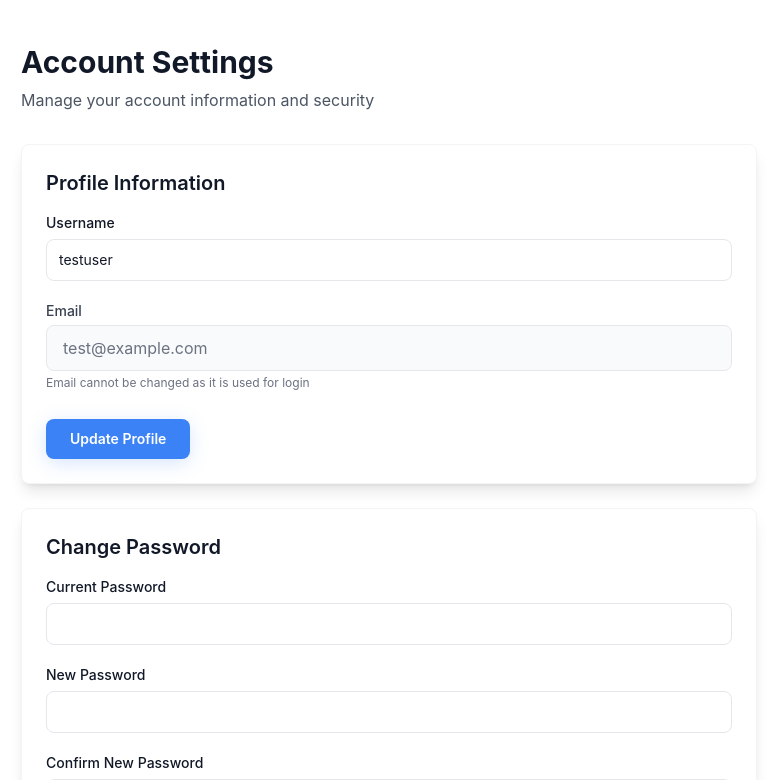
Test: ManageAccountPage › changes password successfully
Type "oldpassword123" into the password field labelled "Current Password" at [389, 624], box [46,603,732,645]
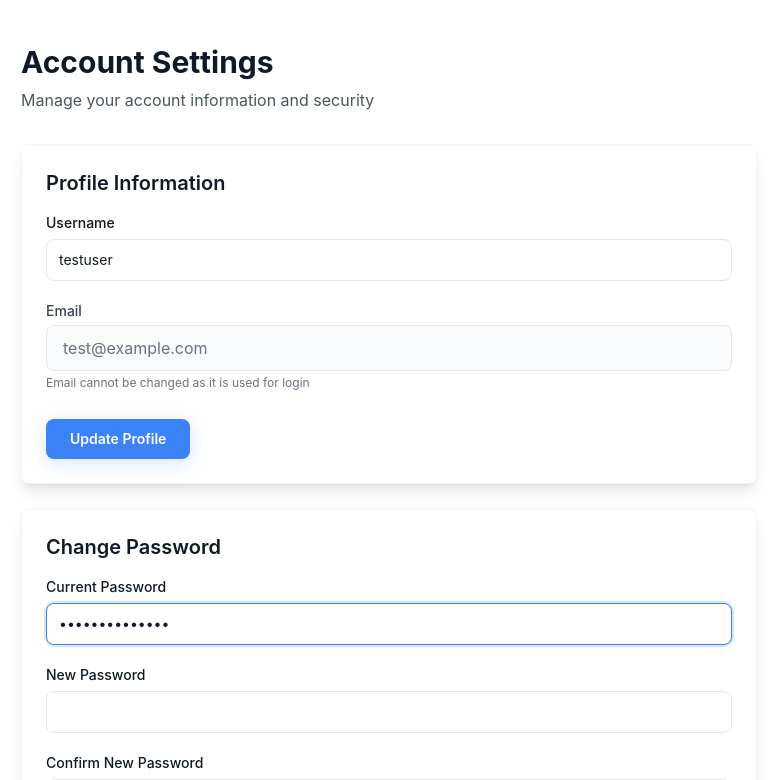
Type "newpassword123" into the password field labelled "New Password" at [389, 712], box [46,691,732,733]
(page scrolled)
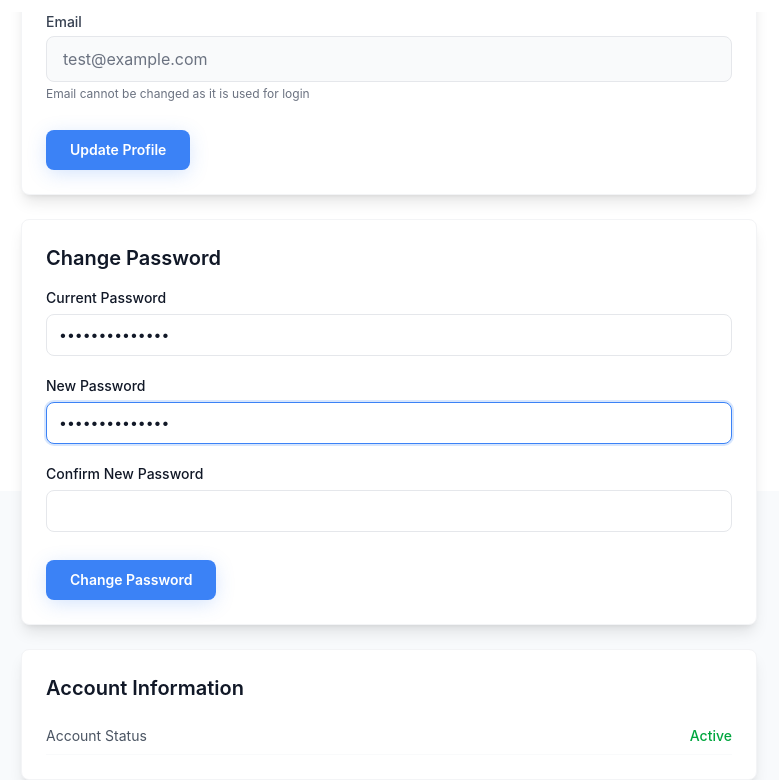
Type "newpassword123" into the password field labelled "Confirm New Password" at [389, 511], box [46,490,732,532]
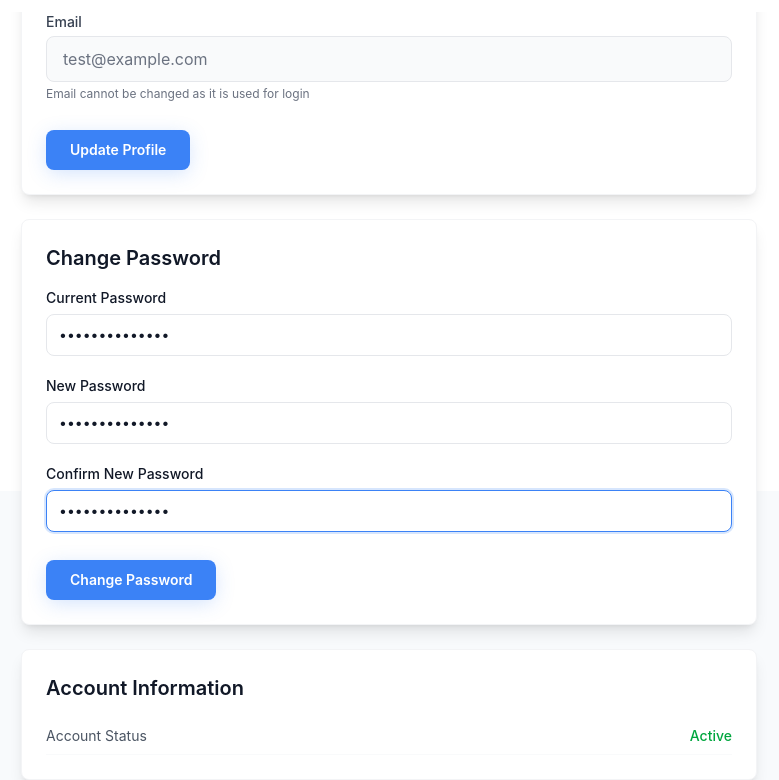
Click the button "Change Password" at [131, 580], box [46,560,216,600]
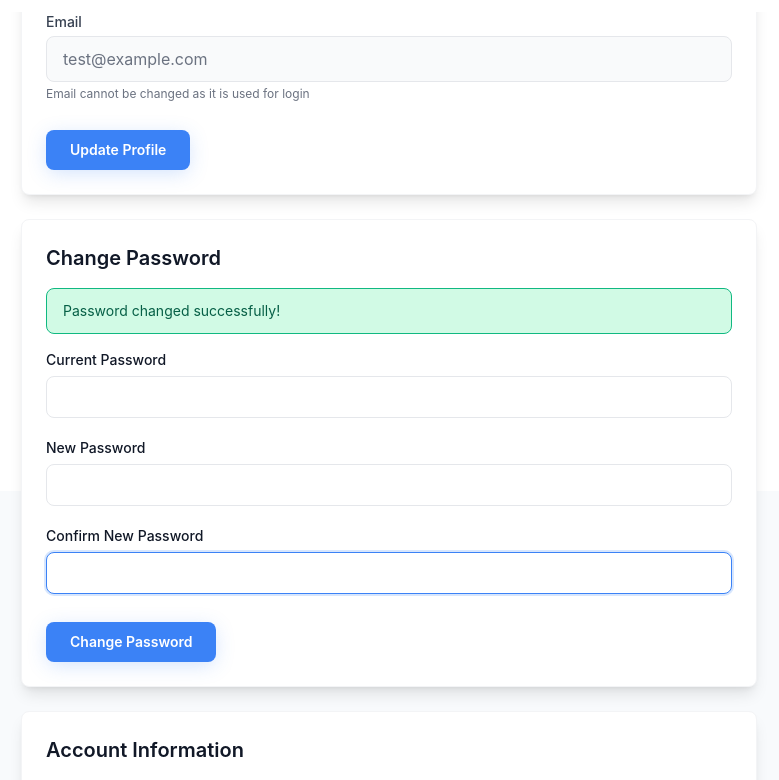
Check: the text "Password changed successfully!" is shown, box [46,288,732,334]
